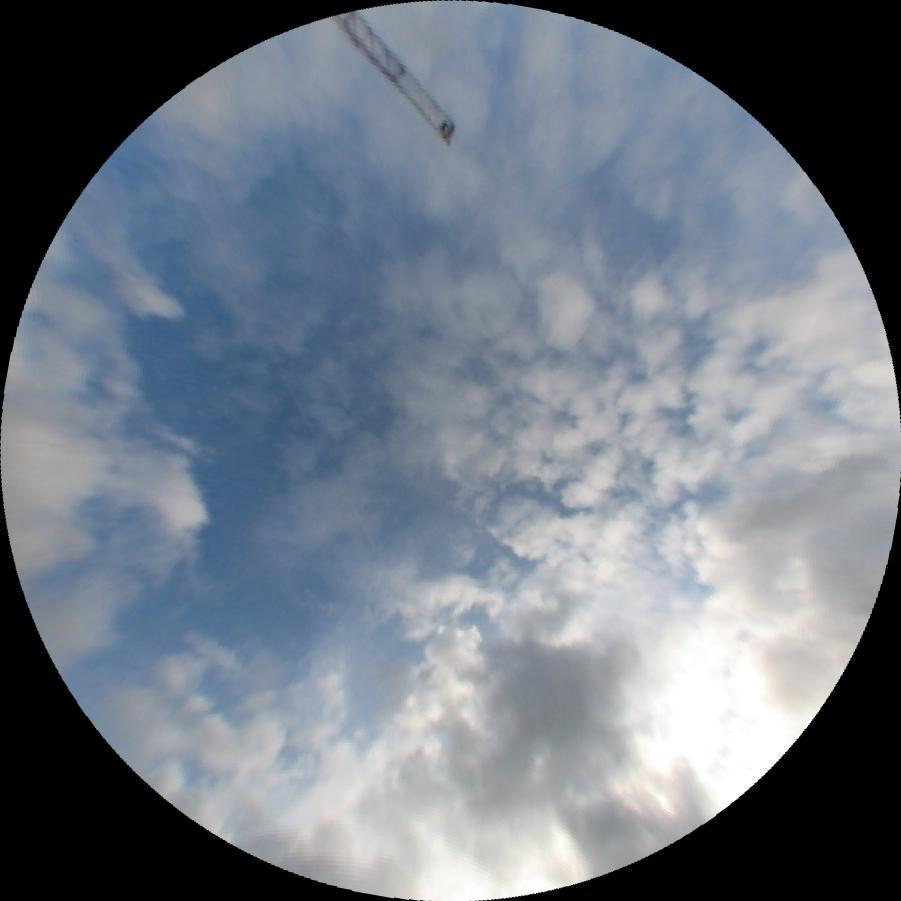contrail young: (152, 116, 375, 549)
